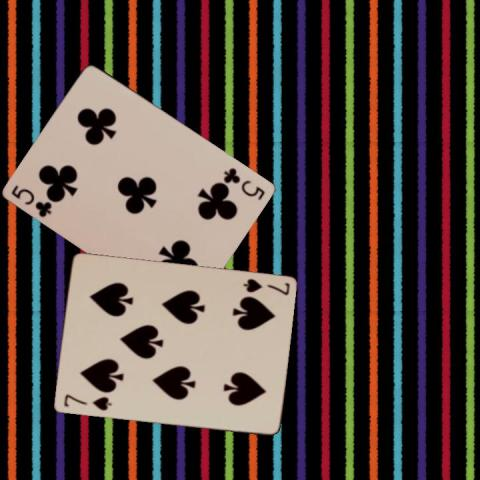5c: (8, 181, 54, 219), (221, 165, 267, 202)
7s: (60, 391, 112, 413), (239, 276, 291, 297)
